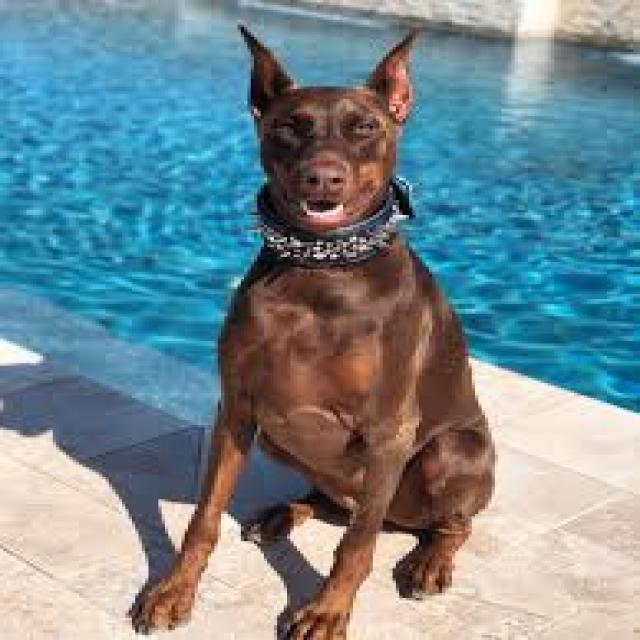Dog: (125, 19, 501, 640)
